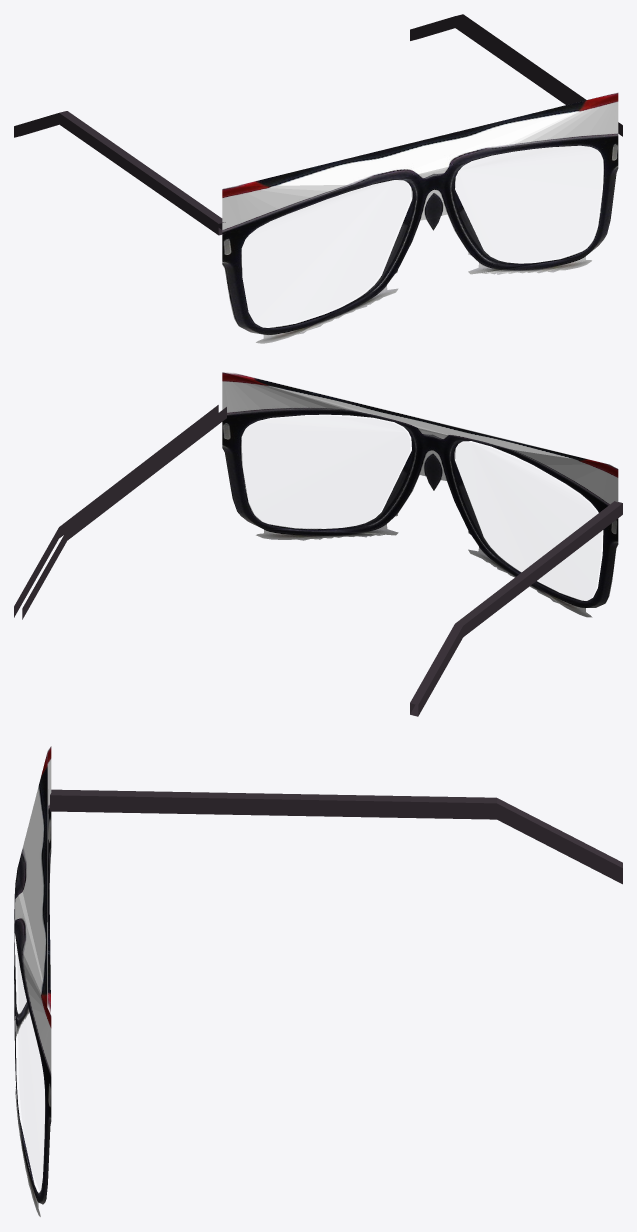
File: times-square-eclipse-1_black-red.glb
3 views of the same model, one above another, from view 1: azimuth 30°, elevation 25°; view 2: azimuth 150°, elevation 25°; view 3: azimuth 270°, elevation 25° (orthographic). The views are drawn at different scales.
Parts seen in each view (by area): view 1: frame_front, temple_viewer_left, temple_viewer_right; view 2: frame_front, temple_viewer_left, temple_viewer_right; view 3: temple_viewer_left, frame_front.
Part boxes in pixels (bbox=[...]): frame_front: bbox=[222, 92, 618, 343]; temple_viewer_left: bbox=[14, 111, 225, 235]; temple_viewer_right: bbox=[410, 14, 622, 136]; frame_front: bbox=[222, 372, 618, 617]; temple_viewer_left: bbox=[410, 501, 622, 716]; temple_viewer_right: bbox=[14, 405, 226, 619]; temple_viewer_left: bbox=[50, 789, 622, 884]; frame_front: bbox=[14, 746, 51, 1216].
Size of the model in its own units: 0.1459 by 0.0557 by 0.136.
3 materials, 2 textured.
